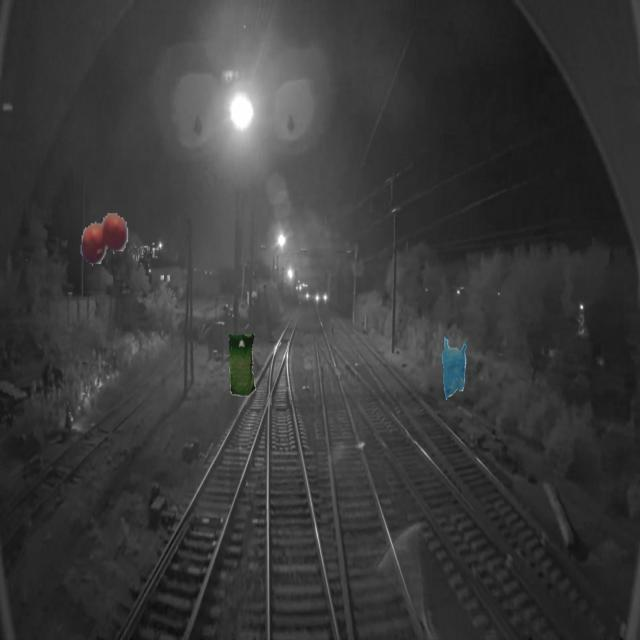balloon: (79, 204, 129, 268)
plastic bag: (229, 332, 256, 397), (442, 336, 467, 400)
